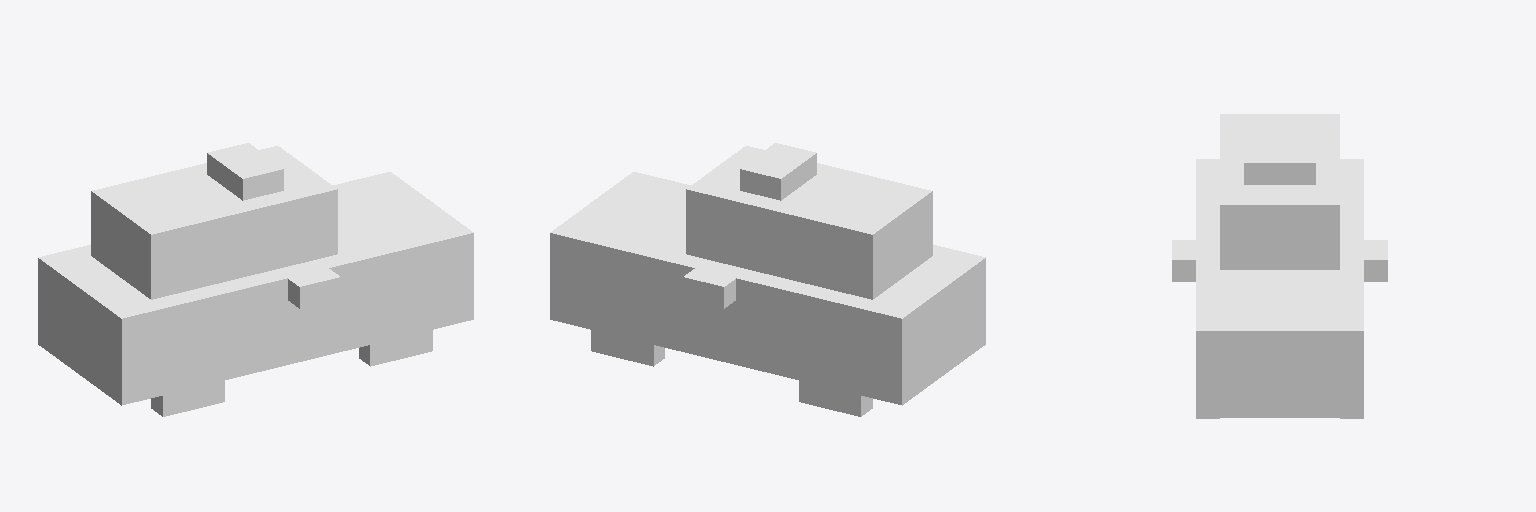
File: car_yellow.obj
The picture shows the model from 3 angles: view 1: azimuth 30°, elevation 25°; view 2: azimuth 150°, elevation 25°; view 3: azimuth 270°, elevation 25°; orthographic projection.
Parts seen in each view (by area): view 1: object 1; view 2: object 1; view 3: object 1.
Part boxes in pixels (x1,y1,x2,y2): object 1: (38, 143, 473, 416); object 1: (550, 143, 985, 416); object 1: (1172, 114, 1387, 418).
Size of the model in its own units: 3.4 by 1.8 by 1.8.